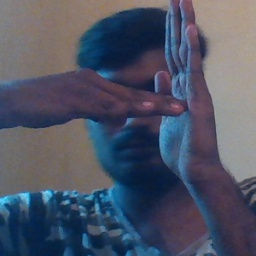Z: (99, 1, 228, 172)
